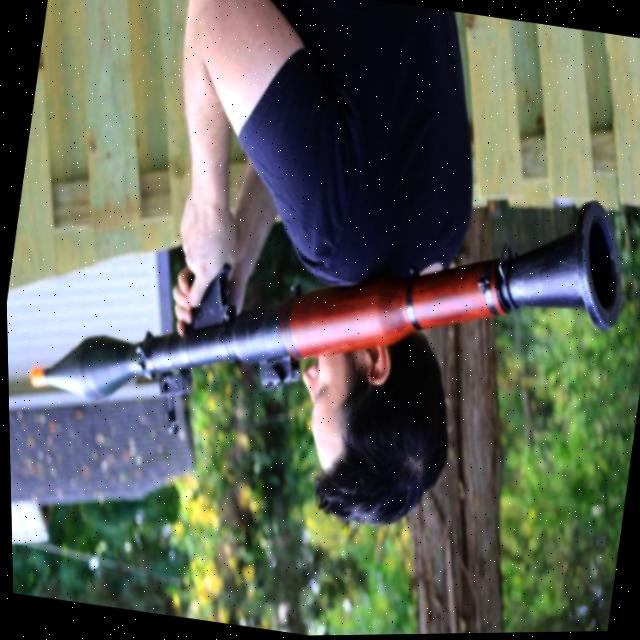rocket: (2, 105, 640, 495)
